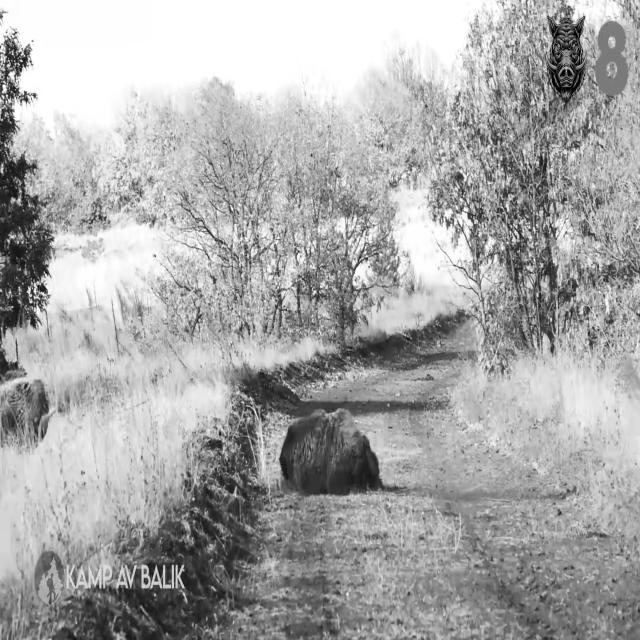boar: (279, 408, 381, 494), (0, 377, 48, 444)
